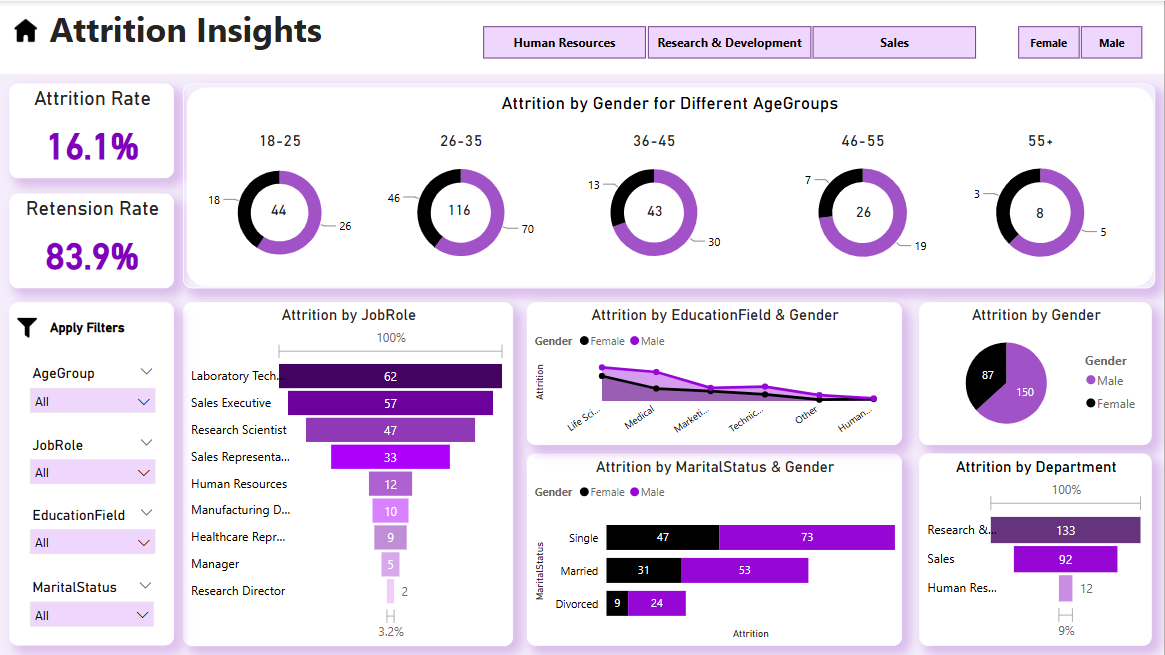

The page's visual inventory and layout, read from the dashboard file:
{"tool":"powerbi","page":{"name":"Attrition Insights","canvas":[1280,720],"ordinal":2},"visuals":[{"type":"card","title":"Attrition Rate","fields":{"Values":["HR_Analytics$.Attrition Rate"]},"box":[12.3,90.6,181.1,104.3],"z":0},{"type":"card","title":"Retension Rate","fields":{"Values":["HR_Analytics$.Retension rate"]},"box":[12.3,211.3,181.1,104.3],"z":1000},{"type":"textbox","box":[0,0,1280,80],"z":2000},{"type":"slicer","fields":{"Values":["HR_Analytics$.Gender"]},"box":[1093.7,20.6,186.6,49.4],"z":3000},{"type":"slicer","fields":{"Values":["HR_Analytics$.Department"]},"box":[506.3,20.6,591.4,49.4],"z":4000},{"type":"shape","title":"Attrition Rate by genf=der","box":[203.1,90.6,1067.6,225],"z":5000},{"type":"donutChart","title":"18-25","fields":{"Category":["HR_Analytics$.Gender"],"Y":["HR_Analytics$.attrition_18_25"]},"box":[223.7,142.7,171.5,160.5],"z":6000},{"type":"card","fields":{"Values":["HR_Analytics$.attrition_18_25"]},"box":[286.8,211.3,42.5,37],"z":7000},{"type":"donutChart","title":"26-35 ","fields":{"Y":["HR_Analytics$.attrition_26_35"],"Category":["HR_Analytics$.Gender"]},"box":[411.7,142.7,193.5,160.5],"z":8000},{"type":"donutChart","title":"36-45 ","fields":{"Y":["HR_Analytics$.attrition_36_45"],"Category":["HR_Analytics$.Gender"]},"box":[624.4,142.7,192.1,160.5],"z":9000},{"type":"donutChart","title":"46-55 ","fields":{"Y":["HR_Analytics$.attrition_46_55"],"Category":["HR_Analytics$.Gender"]},"box":[846.7,142.7,205.8,160.5],"z":10000},{"type":"donutChart","title":"55+","fields":{"Y":["HR_Analytics$.attrition_above_55"],"Category":["HR_Analytics$.Gender"]},"box":[1042.9,142.7,203.1,160.5],"z":11000},{"type":"card","fields":{"Values":["HR_Analytics$.attrition_26_35"]},"box":[481.6,212.7,49.4,35.7],"z":12000},{"type":"card","fields":{"Values":["HR_Analytics$.attrition_36_45"]},"box":[699.8,212.7,42.5,37],"z":13000},{"type":"card","fields":{"Values":["HR_Analytics$.attrition_46_55"]},"box":[929,214.1,42.5,37],"z":14000},{"type":"card","fields":{"Values":["HR_Analytics$.attrition_above_55"]},"box":[1122.5,215.4,42.5,37],"z":15000},{"type":"funnel","title":"Attrition by JobRole","fields":{"Category":["HR_Analytics$.JobRole","HR_Analytics$.Gender"],"Y":["HR_Analytics$.Exit_Employees"]},"box":[203.1,330.7,362.3,377.4],"z":16000},{"type":"barChart","title":"Attrition by MaritalStatus & Gender","fields":{"Category":["HR_Analytics$.MaritalStatus"],"Y":["HR_Analytics$.Exit_Employees"],"Series":["HR_Analytics$.Gender"]},"box":[580.4,496.7,411.7,211.3],"z":17000},{"type":"areaChart","title":"Attrition  by EducationField & Gender","fields":{"Category":["HR_Analytics$.EducationField"],"Y":["HR_Analytics$.Exit_Employees"],"Series":["HR_Analytics$.Gender"]},"box":[580.4,330.7,411.7,156.4],"z":18000},{"type":"pieChart","title":"Attrition by Gender","fields":{"Y":["HR_Analytics$.Exit_Employees"],"Category":["HR_Analytics$.Gender"]},"box":[1011.3,330.7,255.2,156.4],"z":19000},{"type":"funnel","title":"Attrition by Department","fields":{"Category":["HR_Analytics$.Department","HR_Analytics$.Gender"],"Y":["HR_Analytics$.Exit_Employees"]},"box":[1011.3,496.7,255.2,211.3],"z":20000},{"type":"textbox","box":[12,331,181,377],"z":21000},{"type":"slicer","fields":{"Values":["HR_Analytics$.AgeGroup"]},"box":[24.7,395.2,157.8,65.9],"z":22000},{"type":"slicer","fields":{"Values":["HR_Analytics$.JobRole"]},"box":[24.7,473.4,157.8,65.9],"z":23000},{"type":"slicer","fields":{"Values":["HR_Analytics$.EducationField"]},"box":[24.7,550.3,157.8,65.9],"z":24000},{"type":"slicer","fields":{"Values":["HR_Analytics$.MaritalStatus"]},"box":[24.7,629.8,156.4,65.9],"z":25000},{"type":"image","box":[12.3,343.1,38.4,31.6],"z":26000},{"type":"textbox","box":[52.1,344.4,129,30.2],"z":27000},{"type":"image","box":[0,2.7,61,59],"z":28000}]}

Visuals, with their boxes in screenshot pixels (x1, y1, x2, y2), scaled from the page's 1280x720 canvas onto the 1165x655 screenshot:
"Attrition Rate" card: x1=11 y1=82 x2=176 y2=177
"Retension Rate" card: x1=11 y1=192 x2=176 y2=287
textbox: x1=0 y1=0 x2=1164 y2=73
slicer - HR_Analytics$.Gender: x1=995 y1=19 x2=1164 y2=64
slicer - HR_Analytics$.Department: x1=461 y1=19 x2=999 y2=64
"Attrition Rate by genf=der" shape: x1=185 y1=82 x2=1157 y2=287
"18-25" donutChart: x1=204 y1=130 x2=360 y2=276
card - HR_Analytics$.attrition_18_25: x1=261 y1=192 x2=300 y2=226
"26-35 " donutChart: x1=375 y1=130 x2=551 y2=276
"36-45 " donutChart: x1=568 y1=130 x2=743 y2=276
"46-55 " donutChart: x1=771 y1=130 x2=958 y2=276
"55+" donutChart: x1=949 y1=130 x2=1134 y2=276
card - HR_Analytics$.attrition_26_35: x1=438 y1=193 x2=483 y2=226
card - HR_Analytics$.attrition_36_45: x1=637 y1=193 x2=676 y2=227
card - HR_Analytics$.attrition_46_55: x1=846 y1=195 x2=884 y2=228
card - HR_Analytics$.attrition_above_55: x1=1022 y1=196 x2=1060 y2=230
"Attrition by JobRole" funnel: x1=185 y1=301 x2=515 y2=644
"Attrition by MaritalStatus & Gender" barChart: x1=528 y1=452 x2=903 y2=644
"Attrition  by EducationField & Gender" areaChart: x1=528 y1=301 x2=903 y2=443
"Attrition by Gender" pieChart: x1=920 y1=301 x2=1153 y2=443
"Attrition by Department" funnel: x1=920 y1=452 x2=1153 y2=644
textbox: x1=11 y1=301 x2=176 y2=644
slicer - HR_Analytics$.AgeGroup: x1=22 y1=360 x2=166 y2=419
slicer - HR_Analytics$.JobRole: x1=22 y1=431 x2=166 y2=491
slicer - HR_Analytics$.EducationField: x1=22 y1=501 x2=166 y2=561
slicer - HR_Analytics$.MaritalStatus: x1=22 y1=573 x2=165 y2=633
image: x1=11 y1=312 x2=46 y2=341
textbox: x1=47 y1=313 x2=165 y2=341
image: x1=0 y1=2 x2=56 y2=56
